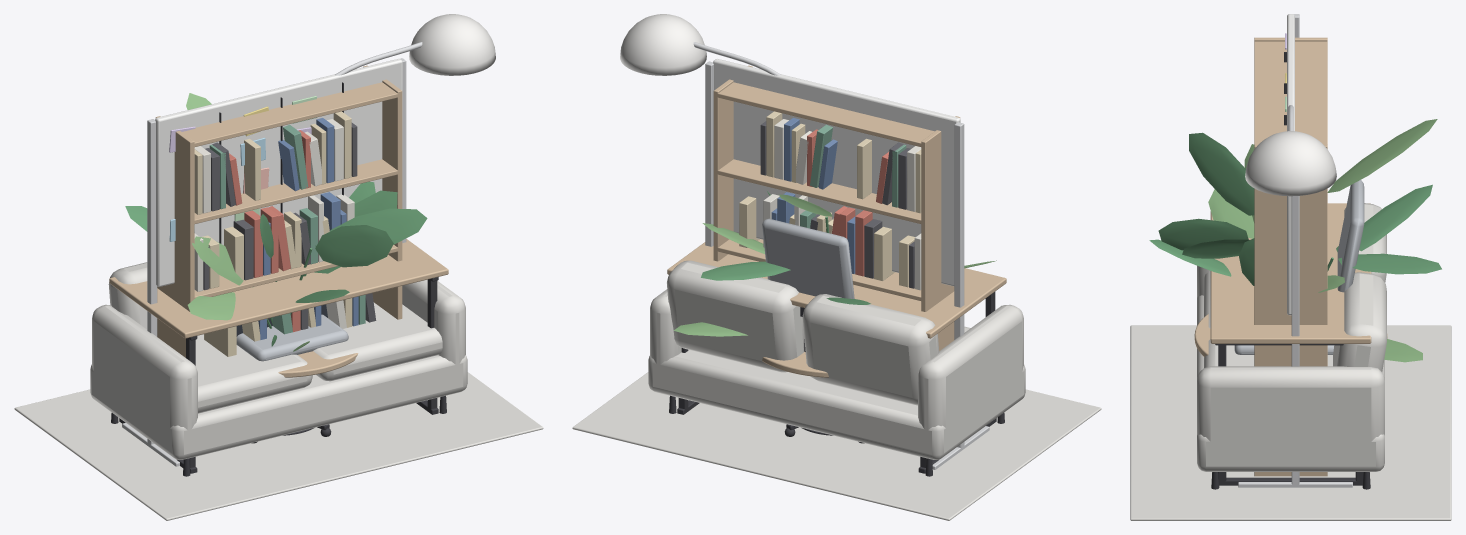
Rendered from office.glb.
3 views of the same model, side by side, from view 1: azimuth 30°, elevation 25°; view 2: azimuth 150°, elevation 25°; view 3: azimuth 270°, elevation 25° (orthographic). The views are drawn at different scales.
Parts seen in each view (by area): view 1: Sofa, Shelf, Rug, Board, Desk, PlantTall, FloorLamp, Chair, CoffeeTable; view 2: Sofa, Shelf, Rug, Board, Chair, Desk, FloorLamp, PlantTall, CoffeeTable; view 3: Rug, Sofa, Shelf, PlantTall, Desk, FloorLamp, Board, Chair, CoffeeTable.
Part boxes in pixels (box(x1,y1,x2,y2)): Sofa: box(90, 262, 467, 476); Shelf: box(155, 65, 402, 357); Rug: box(14, 372, 543, 520); Board: box(122, 58, 427, 466); Desk: box(109, 239, 448, 473); PlantTall: box(125, 93, 427, 328); FloorLamp: box(335, 14, 495, 75); Chair: box(236, 314, 348, 443); CoffeeTable: box(278, 351, 358, 435); Sofa: box(648, 260, 1025, 476); Shelf: box(713, 65, 960, 350); Rug: box(572, 372, 1101, 520); Board: box(688, 59, 989, 469); Chair: box(762, 218, 864, 443); Desk: box(667, 242, 1006, 473); FloorLamp: box(620, 14, 780, 75); PlantTall: box(674, 191, 996, 336); CoffeeTable: box(762, 352, 832, 435); Rug: box(1130, 325, 1451, 520); Sofa: box(1197, 203, 1386, 489); Shelf: box(1254, 37, 1327, 476); PlantTall: box(1149, 119, 1441, 362); Desk: box(1210, 203, 1371, 485); FloorLamp: box(1245, 105, 1336, 196); Board: box(1238, 14, 1352, 487); Chair: box(1234, 180, 1364, 354); CoffeeTable: box(1194, 314, 1387, 356).
Bounding box in the file's own units: 2.12 × 1.82 × 1.4.
